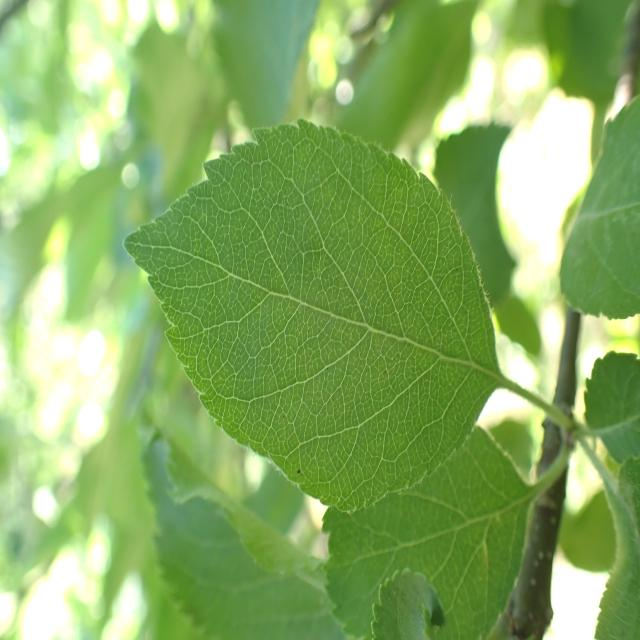healthy: (124, 117, 502, 515), (320, 422, 536, 640), (559, 95, 640, 319)
